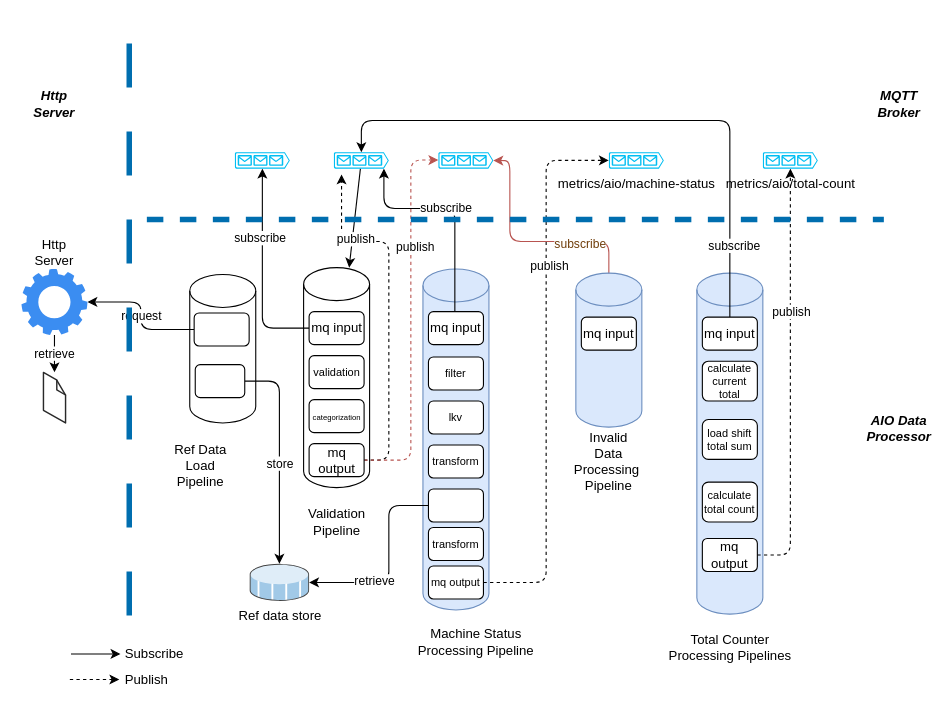
Some shapes in this 952 by 716 pixel diagram are drawn without their labels. The centre of each missing label's shape, as x and y in pixels:
enrich: the point at 455,505
http input: the point at 221,329
Ref Data file: the point at 54,397
refdata output: the point at 219,381
zurich/dead-letter: the point at 465,160
zurich/input: the point at 261,160
zurich/input/valid: the point at 360,160
